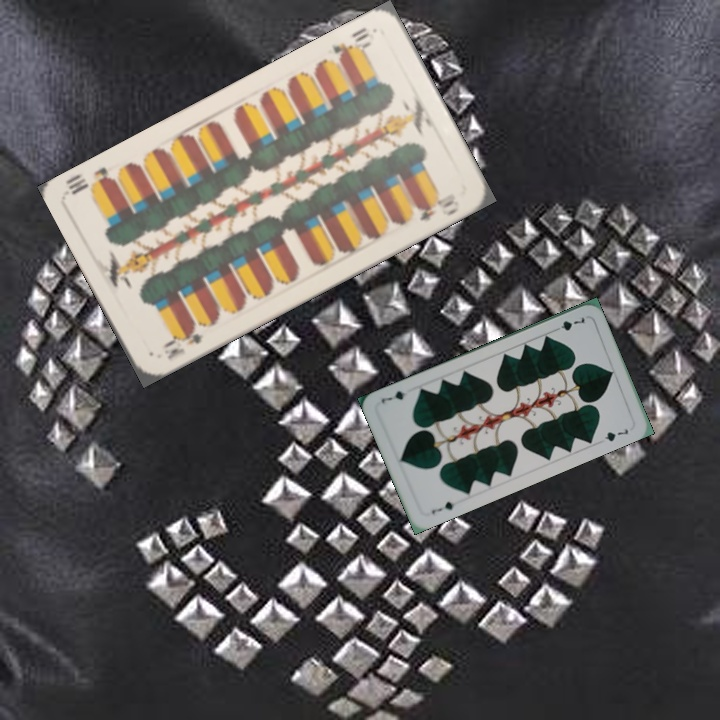E10: (159, 319, 206, 363), (327, 23, 374, 64)
G7: (549, 313, 587, 334), (428, 497, 461, 516)
